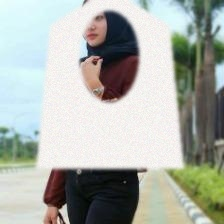Mukena: (35, 0, 184, 169)
